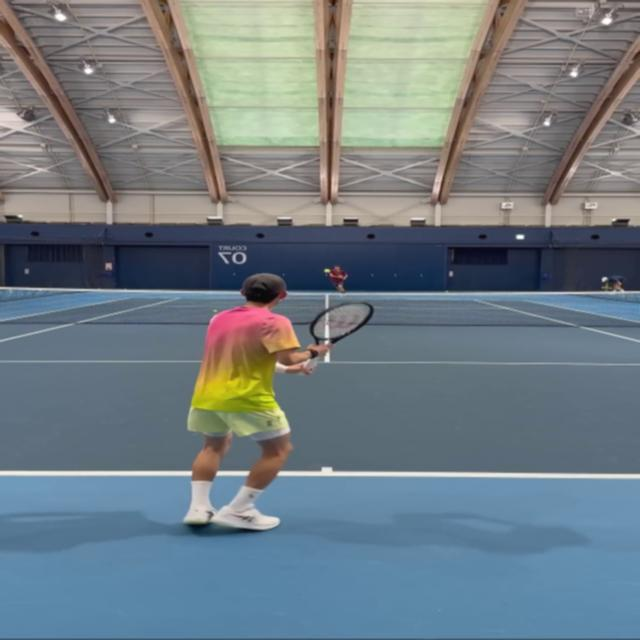tennis_ball: (324, 269, 330, 273)
